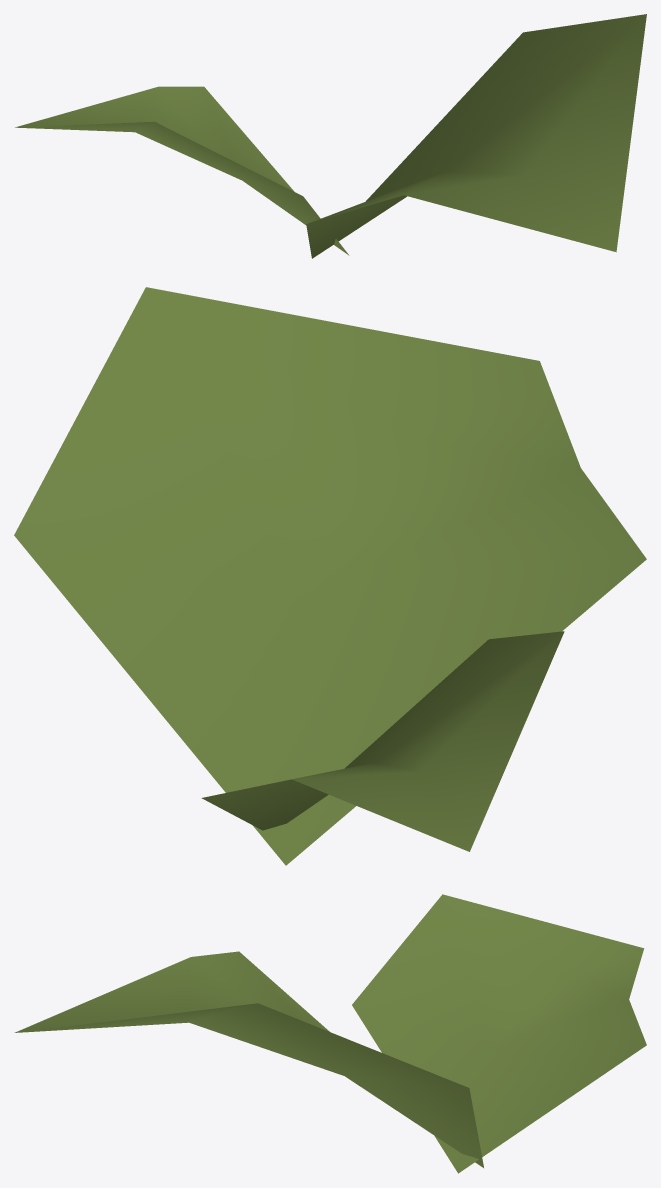
The model's file is Weed2.fbx.
3 renders of one model, top to bottom at view 1: azimuth 30°, elevation 25°; view 2: azimuth 150°, elevation 25°; view 3: azimuth 270°, elevation 25°, orthographic. The views are drawn at different scales.
Parts seen in each view (by area): view 1: Weed_Dandellion_A_spring-summer.034; view 2: Weed_Dandellion_A_spring-summer.034; view 3: Weed_Dandellion_A_spring-summer.034.
Boxes of the visible parts, bbox=[...] form: Weed_Dandellion_A_spring-summer.034: bbox=[15, 14, 646, 258]; Weed_Dandellion_A_spring-summer.034: bbox=[14, 287, 646, 865]; Weed_Dandellion_A_spring-summer.034: bbox=[14, 894, 646, 1173].
Bounding box in the file's own units: 61.03 × 37.38 × 80.05.
